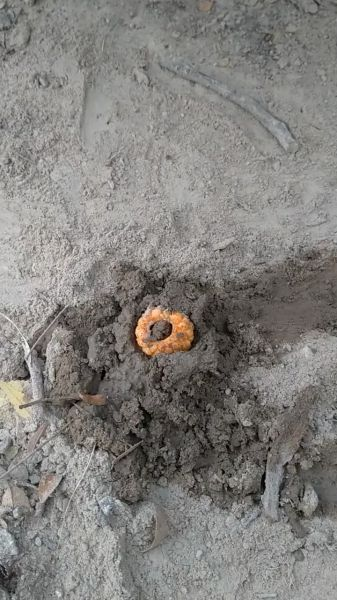eggs: (130, 300, 202, 365)
